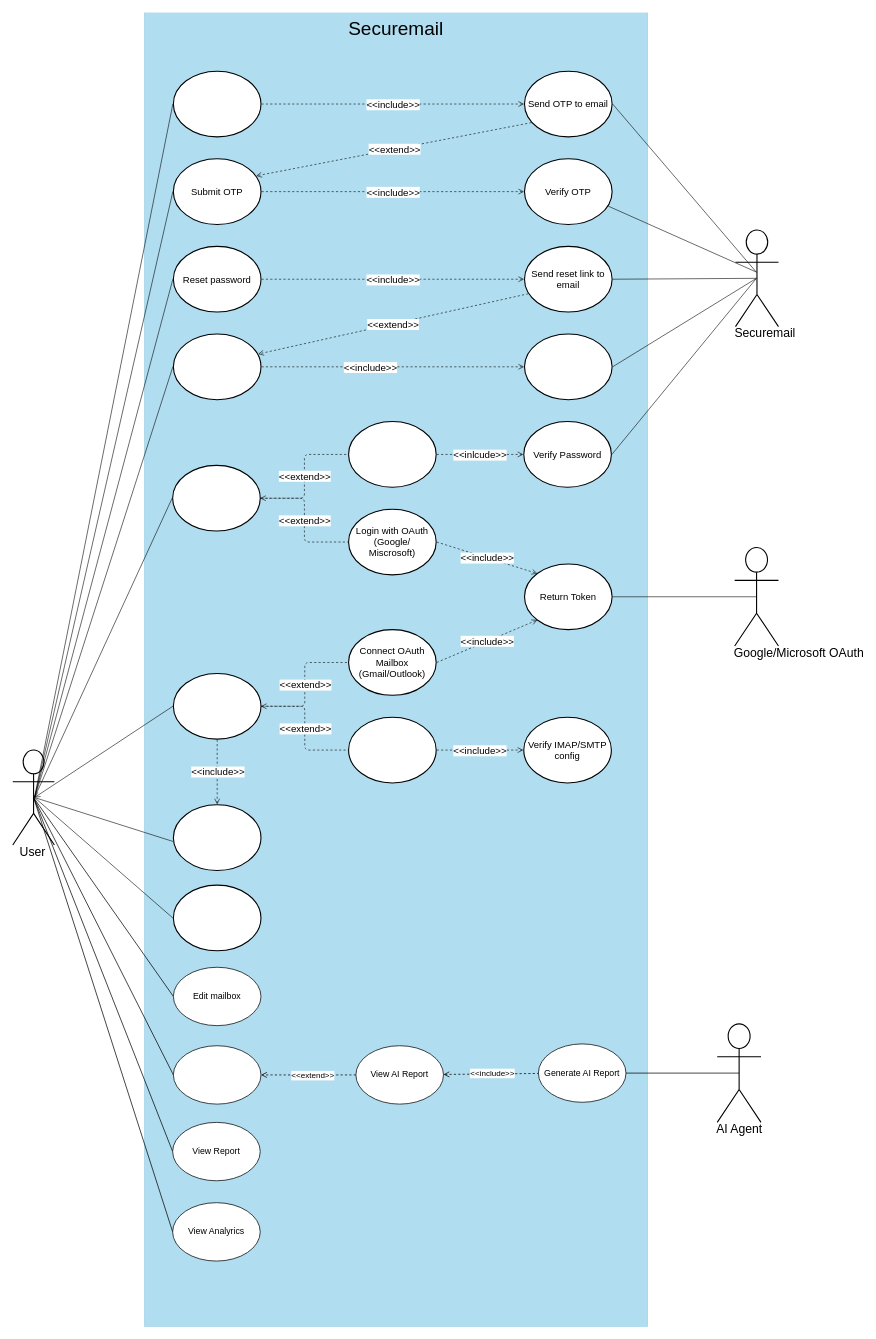
This 876x1339 diagram has some shape labels left out. Each missing label, with the centre of its shape:
Connect Custom IMAP Maibox: the point at 392,749
Connect mailbox: the point at 216,706
Delete Mailbox: the point at 216,917
Login: the point at 216,497
Login with Local (Email/Password): the point at 392,454
Manage emails (View/Reclassify/ send/Forward): the point at 217,1074
Register: the point at 216,103
Submit New Password: the point at 216,366
Sync Mailbox: the point at 216,837
Verify New Password: the point at 568,366
